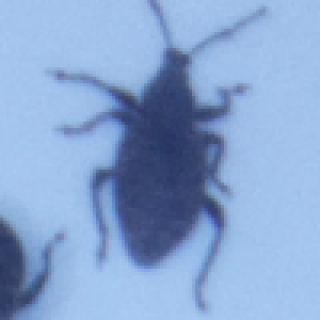bvw: (42, 0, 270, 311)
